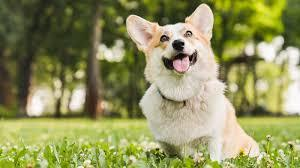Dog: (122, 3, 221, 84)
